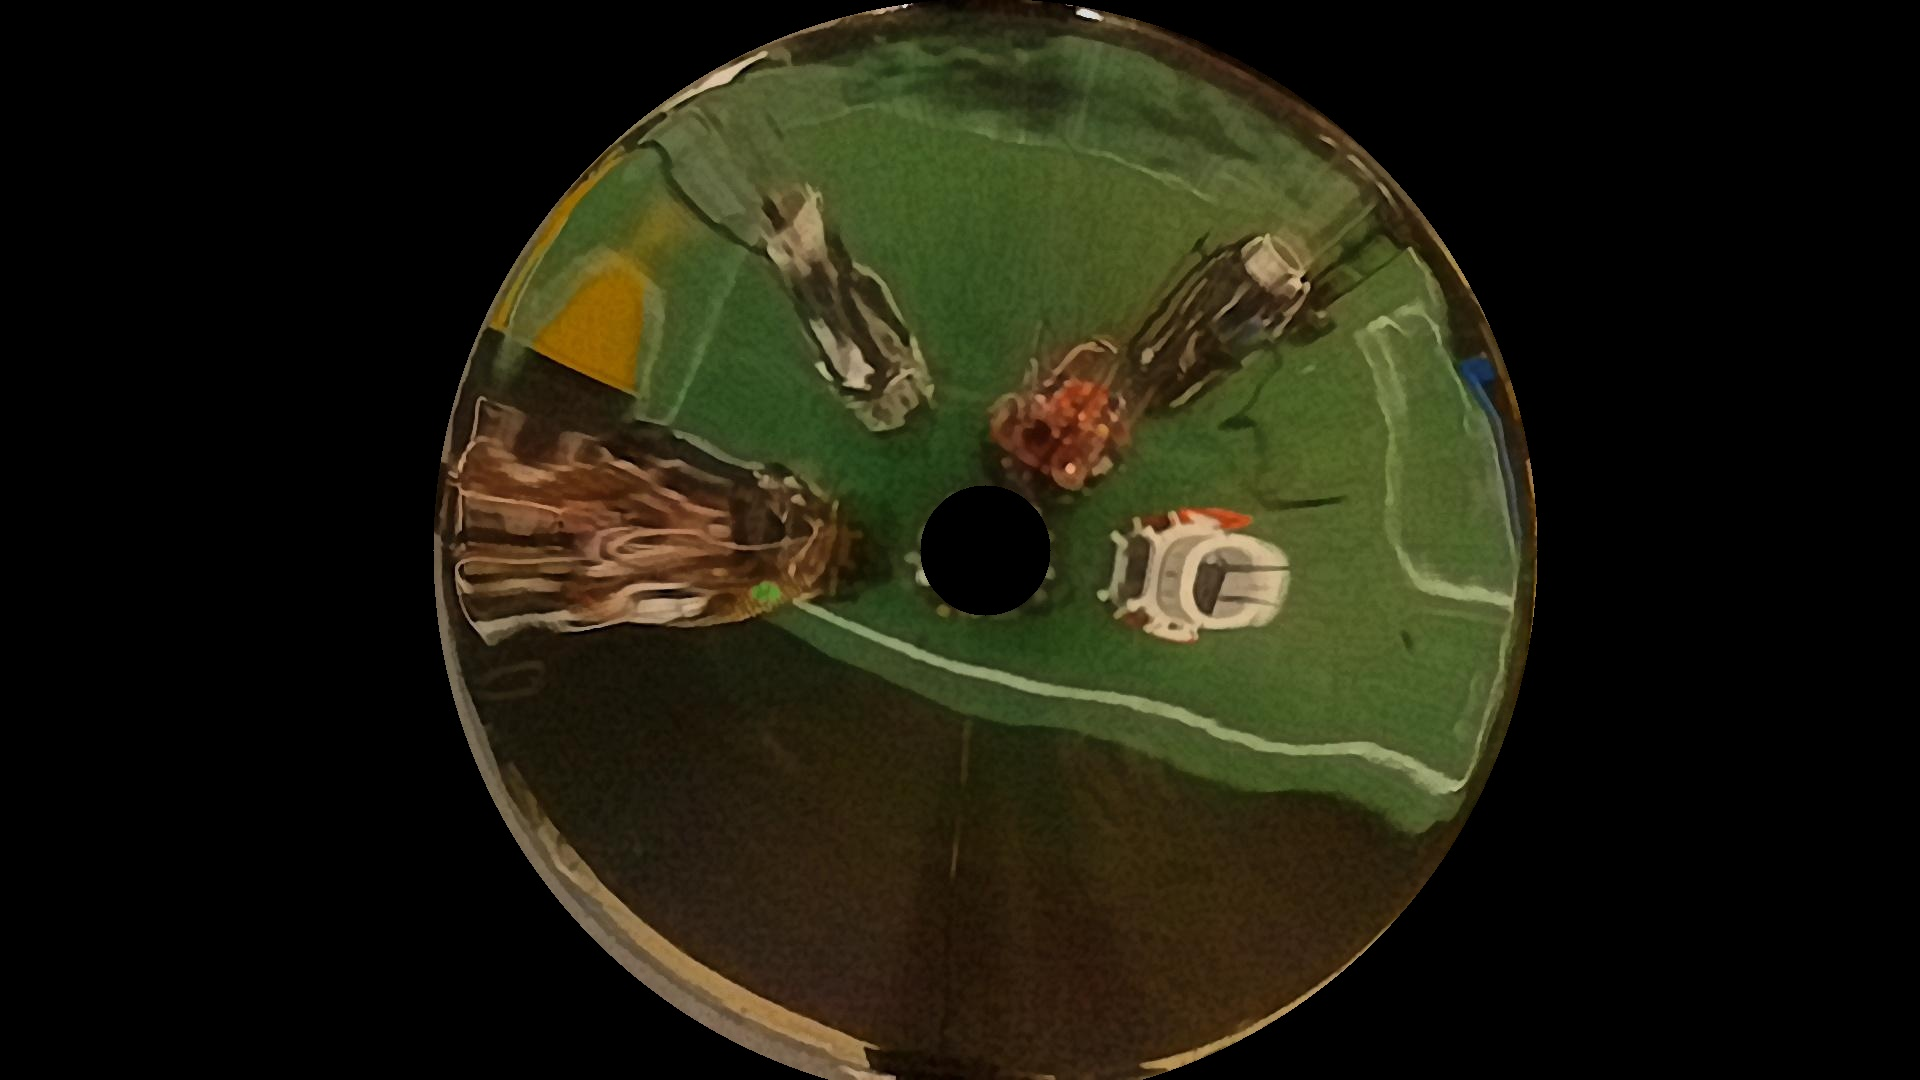blue-goal: (1460, 340, 1562, 544)
robots: (666, 58, 958, 422), (446, 414, 864, 650), (1138, 180, 1304, 422), (1100, 500, 1302, 654), (972, 320, 1138, 500)
yellow-goal: (512, 140, 742, 386)
